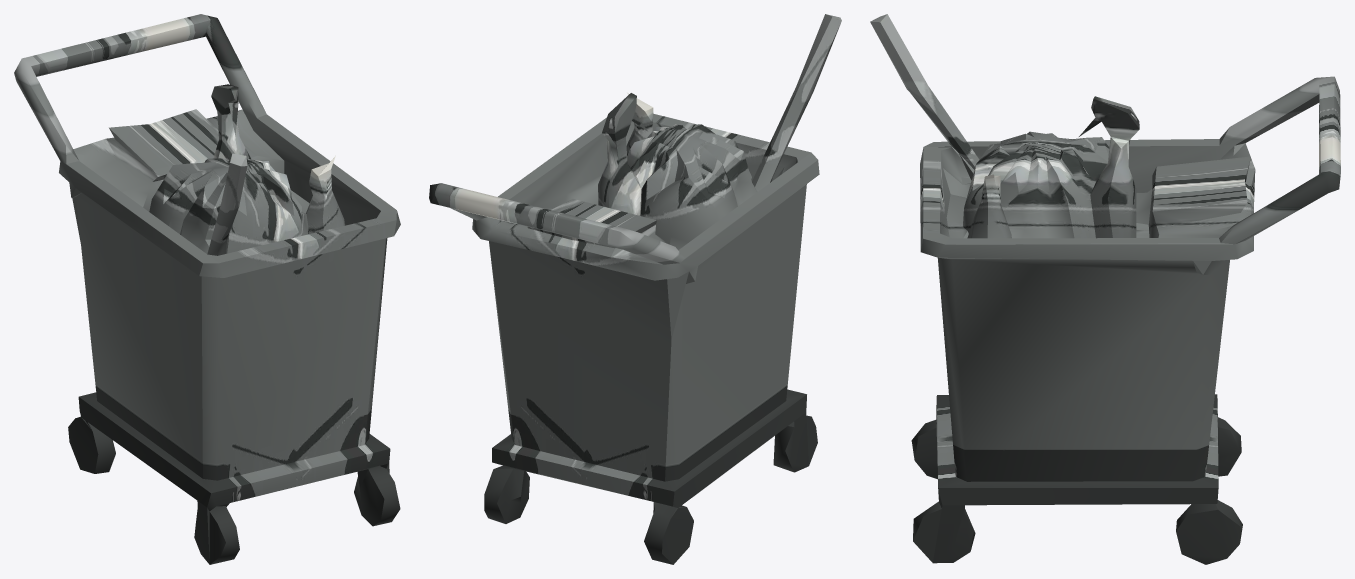
3 renders of one model, left to right at view 1: azimuth 30°, elevation 25°; view 2: azimuth 150°, elevation 25°; view 3: azimuth 270°, elevation 25°, orthographic. The views are drawn at different scales.
Parts seen in each view (by area): view 1: Decor_janitor_cart_a; view 2: Decor_janitor_cart_a; view 3: Decor_janitor_cart_a.
Part boxes in pixels (x1,y1,x2,y2): Decor_janitor_cart_a: (14, 14, 400, 564); Decor_janitor_cart_a: (429, 14, 841, 564); Decor_janitor_cart_a: (870, 14, 1340, 564).
Bounding box in the file's own units: 0.553 × 1.1 × 1.02.
1 material, 1 textured.
